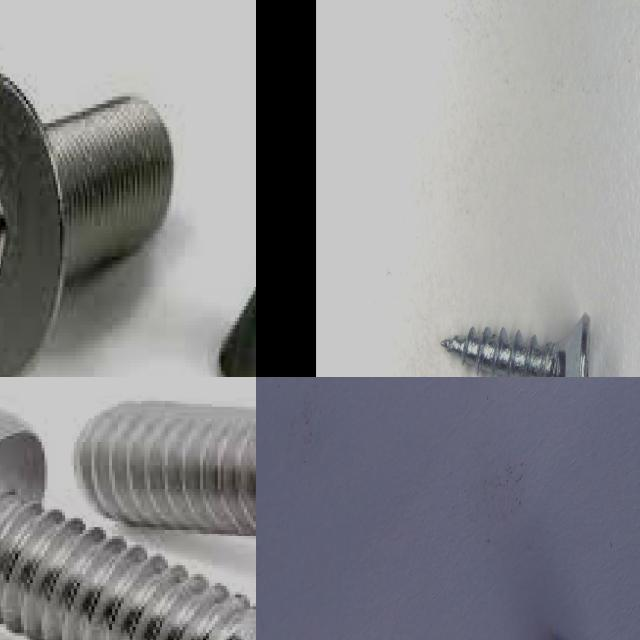Screw: (0, 427, 256, 640), (0, 73, 171, 377), (71, 401, 256, 541), (441, 313, 591, 377)
